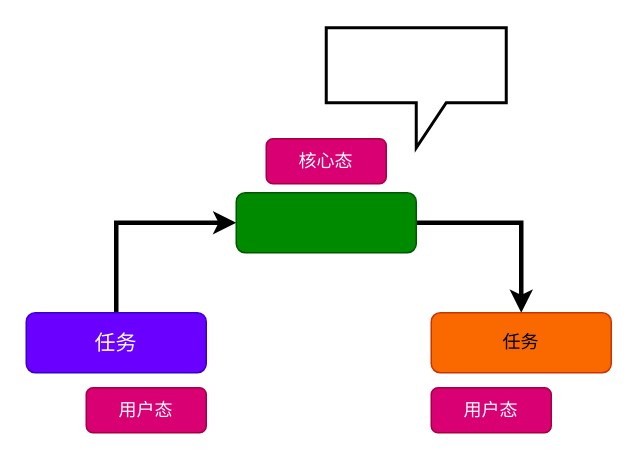
The diagram is 638 pixels wide and 459 high, and some of its shapes have lost their labels. Each missing label, with the box of its shape:
CPU: (235, 191, 416, 253)
系统调度: (324, 26, 507, 148)
